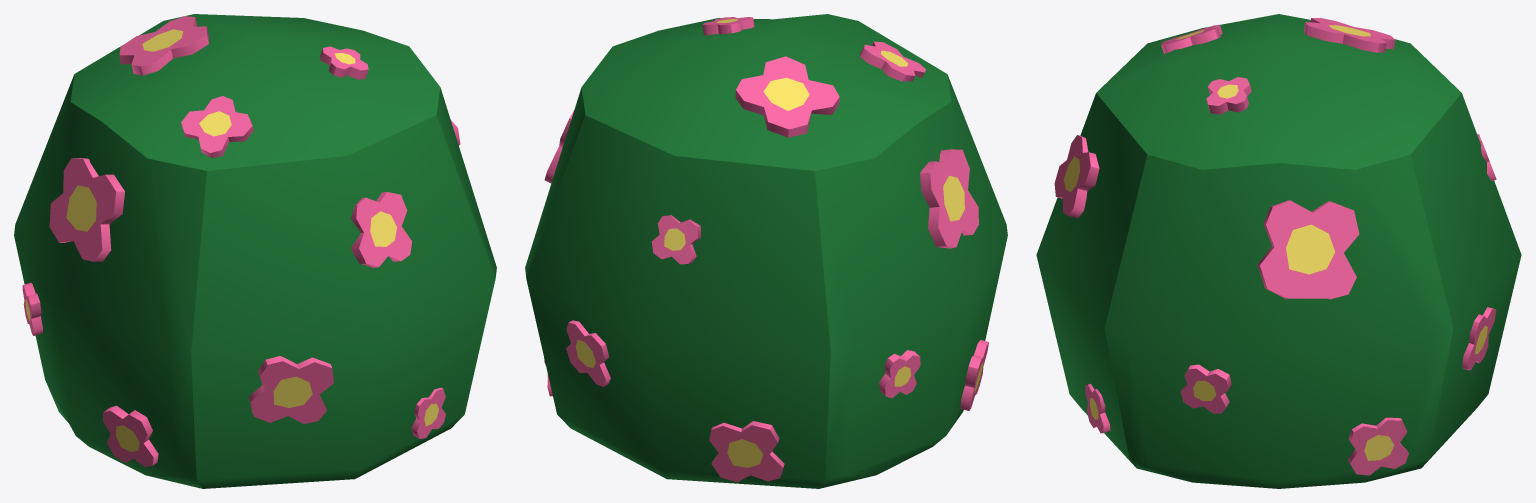
Rendered from bush_flowers.glb.
3 renders of one model, left to right at view 1: azimuth 30°, elevation 25°; view 2: azimuth 150°, elevation 25°; view 3: azimuth 270°, elevation 25°, orthographic.
Visible parts, largest first — view 1: bush_geo; view 2: bush_geo; view 3: bush_geo.
Boxes of the visible parts, left/top/right/bottom form: bush_geo: left=14, top=14, right=496, bottom=488; bush_geo: left=525, top=14, right=1007, bottom=488; bush_geo: left=1036, top=14, right=1521, bottom=488.
Size of the model in its own units: 0.998 by 0.8809 by 1.04.
Materials: 1 (1 with a texture image).
